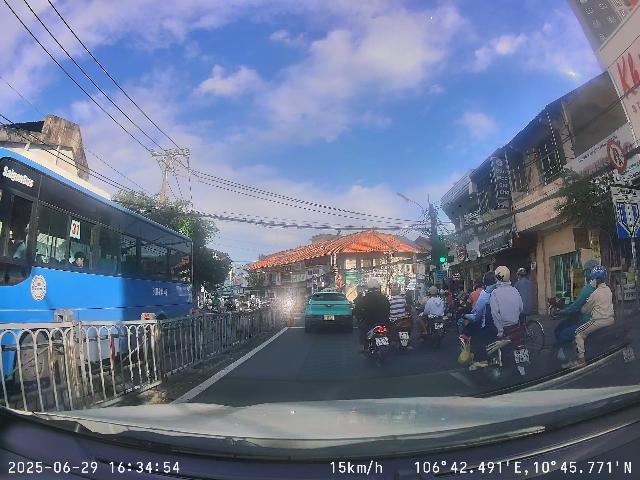124b-cam-oto-quay-dau-xe: (607, 140, 627, 172)
